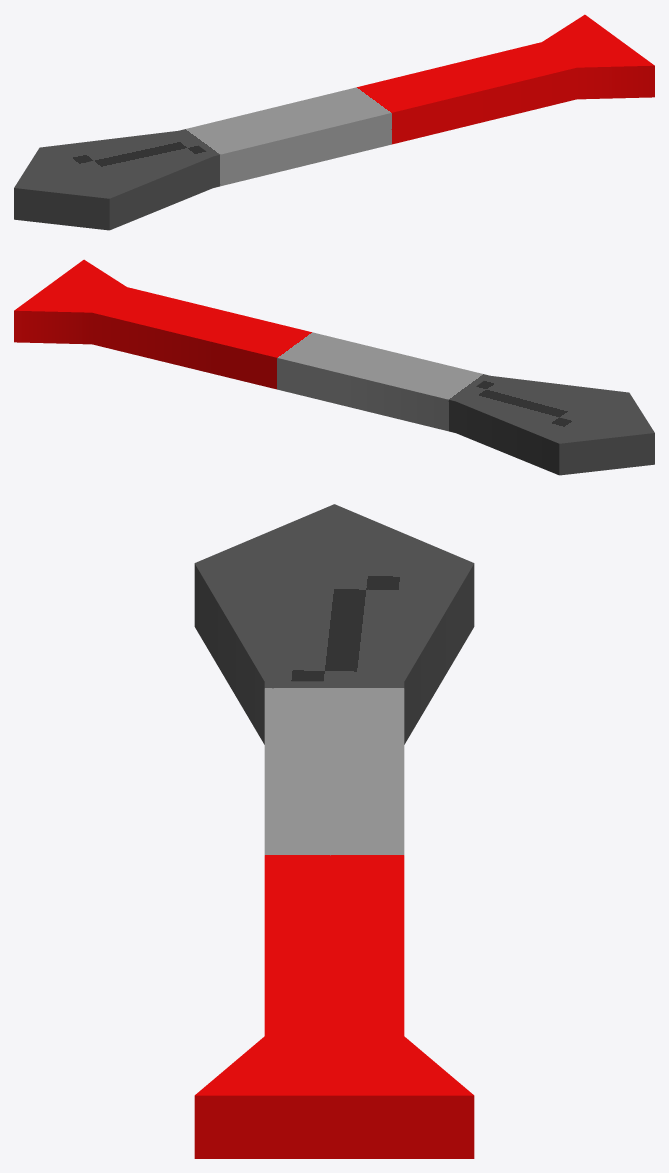
File: shovel.fbx
3 views of the same model, one above another, from view 1: azimuth 30°, elevation 25°; view 2: azimuth 150°, elevation 25°; view 3: azimuth 270°, elevation 25° (orthographic). The views are drawn at different scales.
Parts seen in each view (by area): view 1: shovel:Mesh; view 2: shovel:Mesh; view 3: shovel:Mesh.
Boxes of the visible parts, x1,y1,x2,y2 form: shovel:Mesh: (14,14,654,230); shovel:Mesh: (14,259,654,475); shovel:Mesh: (194,504,474,1158).
Bounding box in the file's own units: 433 × 21.65 × 86.59.
Materials: 1 (1 with a texture image).
